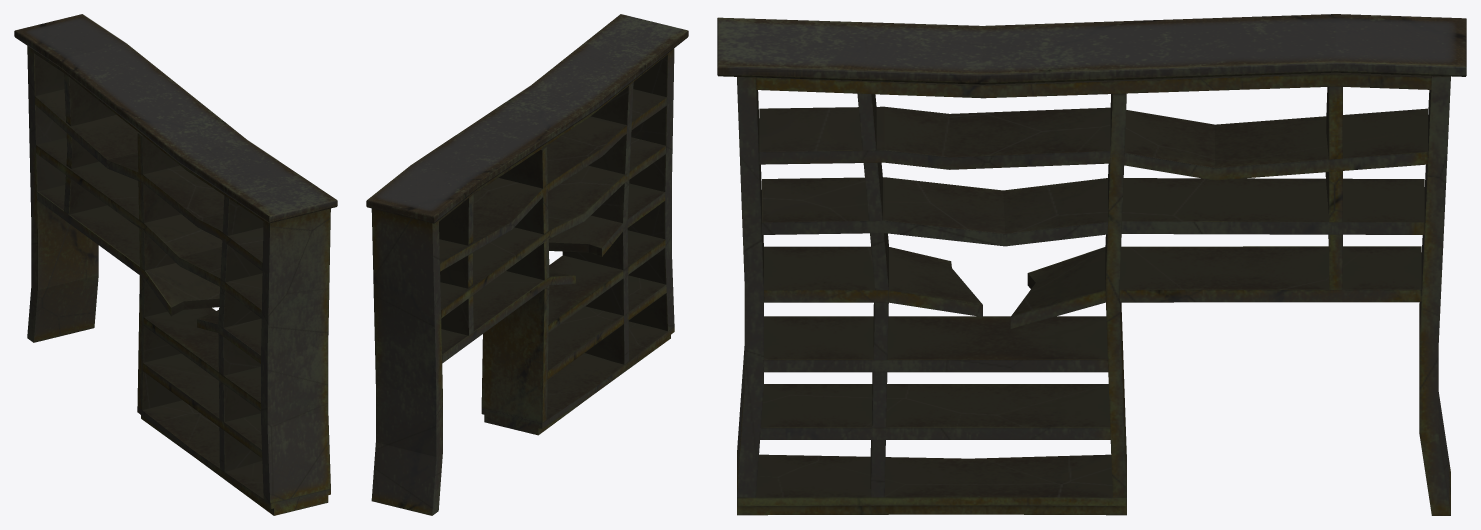
The model's file is Bibliotecas_Grande.glb.
The picture shows the model from 3 angles, left to right: view 1: azimuth 30°, elevation 25°; view 2: azimuth 150°, elevation 25°; view 3: azimuth 270°, elevation 25°; orthographic projection. The views are drawn at different scales.
Parts seen in each view (by area): view 1: Estanteria; view 2: Estanteria; view 3: Estanteria.
Part boxes in pixels (<box>): Estanteria: <box>14,14,337,515</box>; Estanteria: <box>366,14,688,515</box>; Estanteria: <box>717,14,1466,515</box>.
Size of the model in its own units: 0.7761 by 3.36 by 5.02.
Materials: 1 (1 with a texture image).
